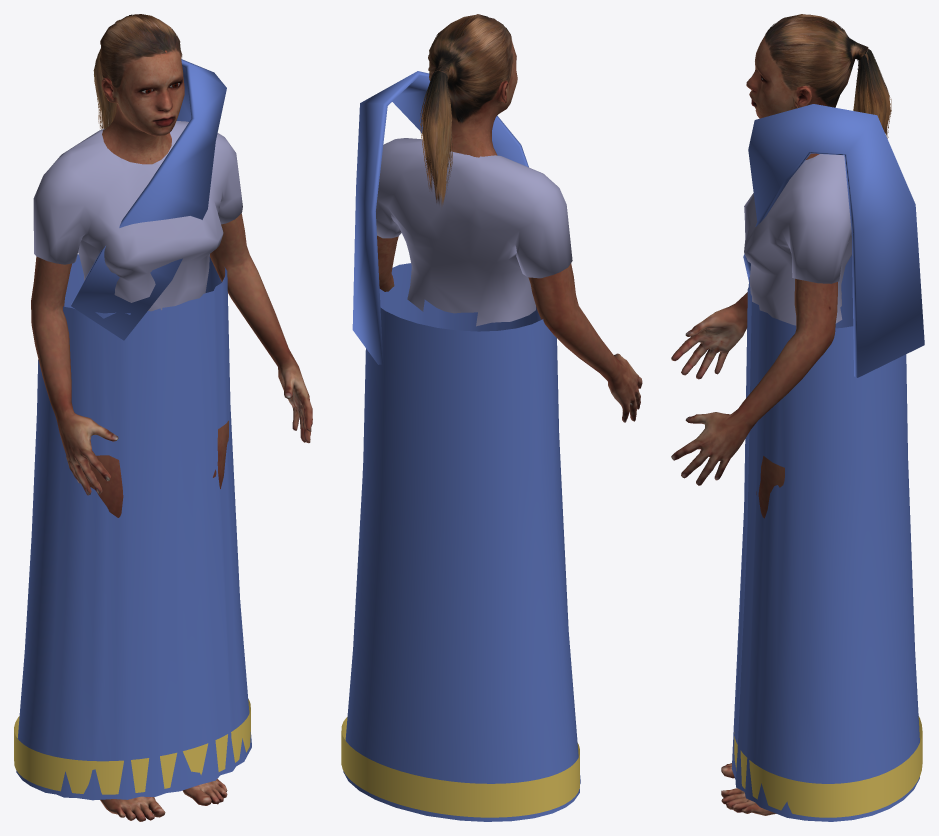
The model's file is street_woman_saree_blue.glb.
3 views of the same model, side by side, from view 1: azimuth 30°, elevation 25°; view 2: azimuth 150°, elevation 25°; view 3: azimuth 270°, elevation 25° (orthographic).
Parts seen in each view (by area): view 1: woman_saree_blue; view 2: woman_saree_blue; view 3: woman_saree_blue.
Part boxes in pixels (box(x1,y1,x2,y2)): woman_saree_blue: box(14, 14, 312, 821); woman_saree_blue: box(341, 14, 642, 821); woman_saree_blue: box(671, 14, 924, 821).
Size of the model in its own units: 0.5182 by 1.6 by 0.477.
10 materials, 7 textured.
